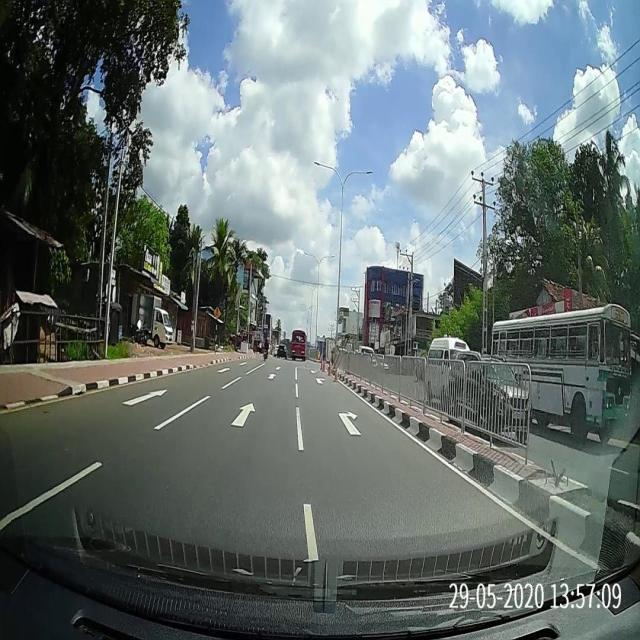Strelka vpered: (119, 388, 169, 406), (230, 400, 255, 428), (215, 367, 230, 373), (267, 373, 277, 380)
Strelka vpravo: (337, 410, 363, 436), (316, 377, 326, 384)
